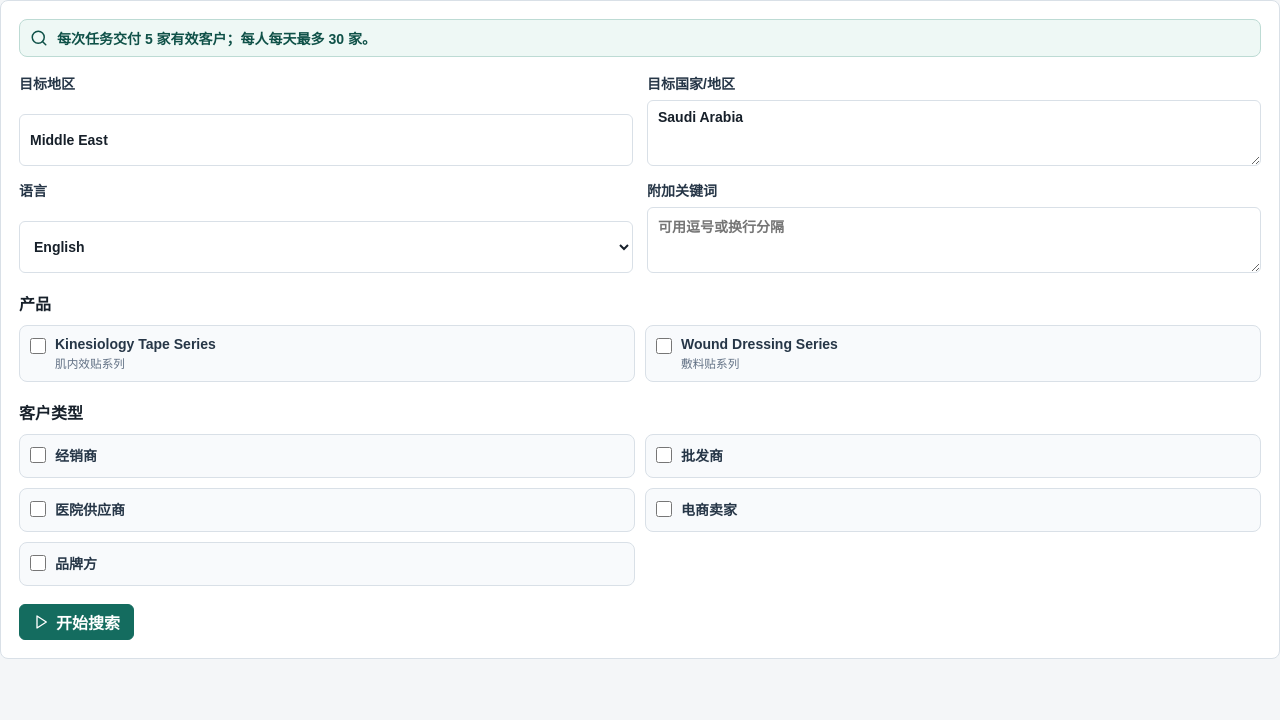
it: TaskForm › shows a network error without navigating
Step 1. Click the checkbox labelled "Kinesiology Tape Series" → (38, 346), box x1=30 y1=338 x2=46 y2=354
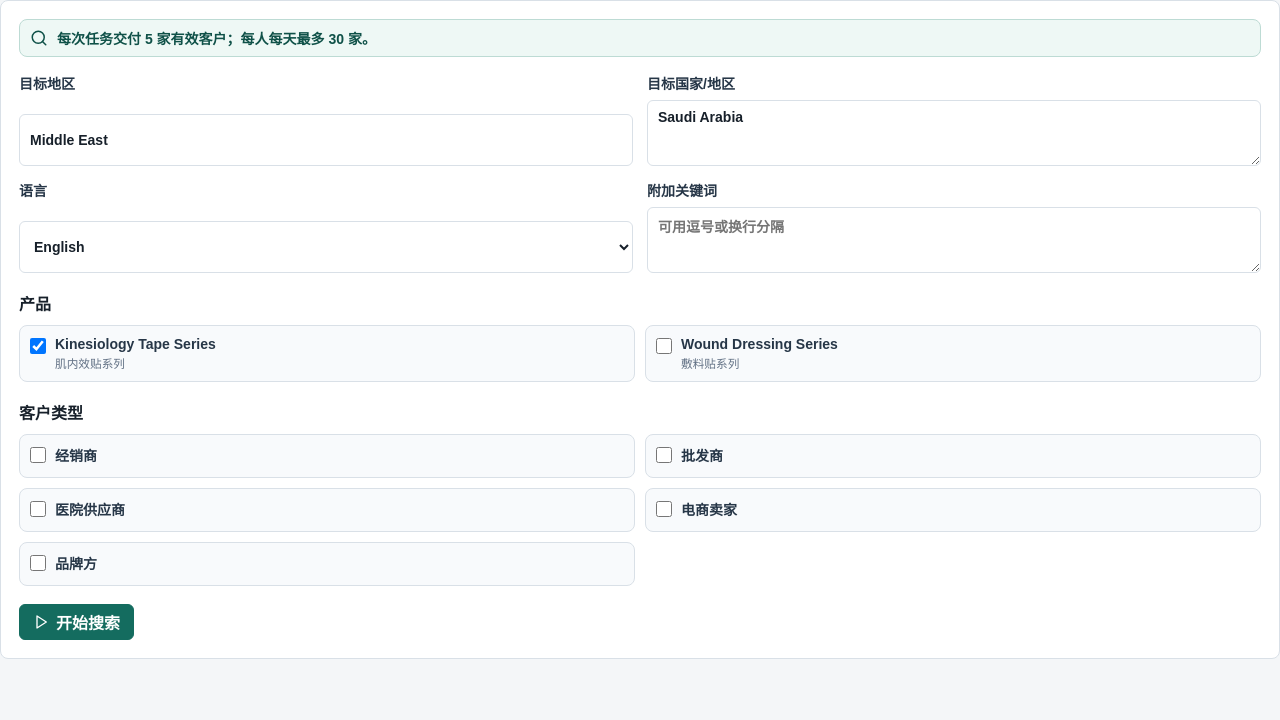
Step 2. Click the checkbox labelled "经销商" → (38, 455), box x1=30 y1=447 x2=46 y2=463
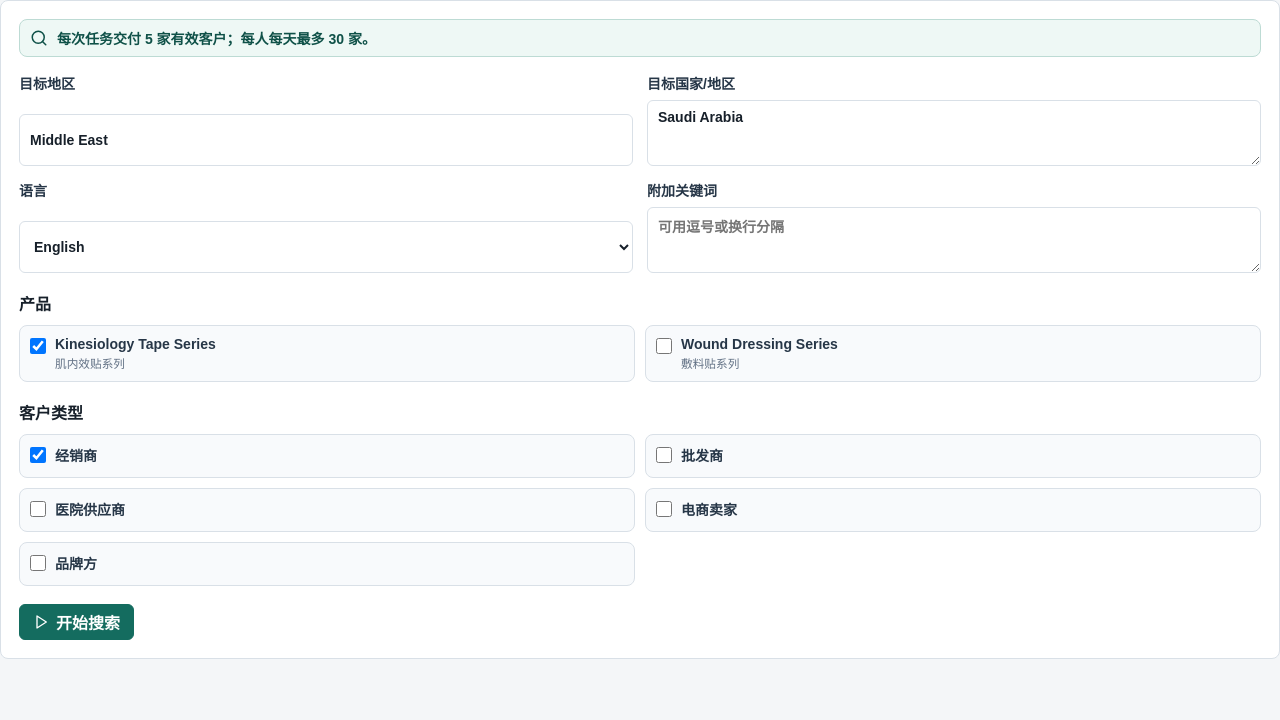
Step 3. Click the button "开始搜索" → (76, 622), box x1=19 y1=604 x2=134 y2=640
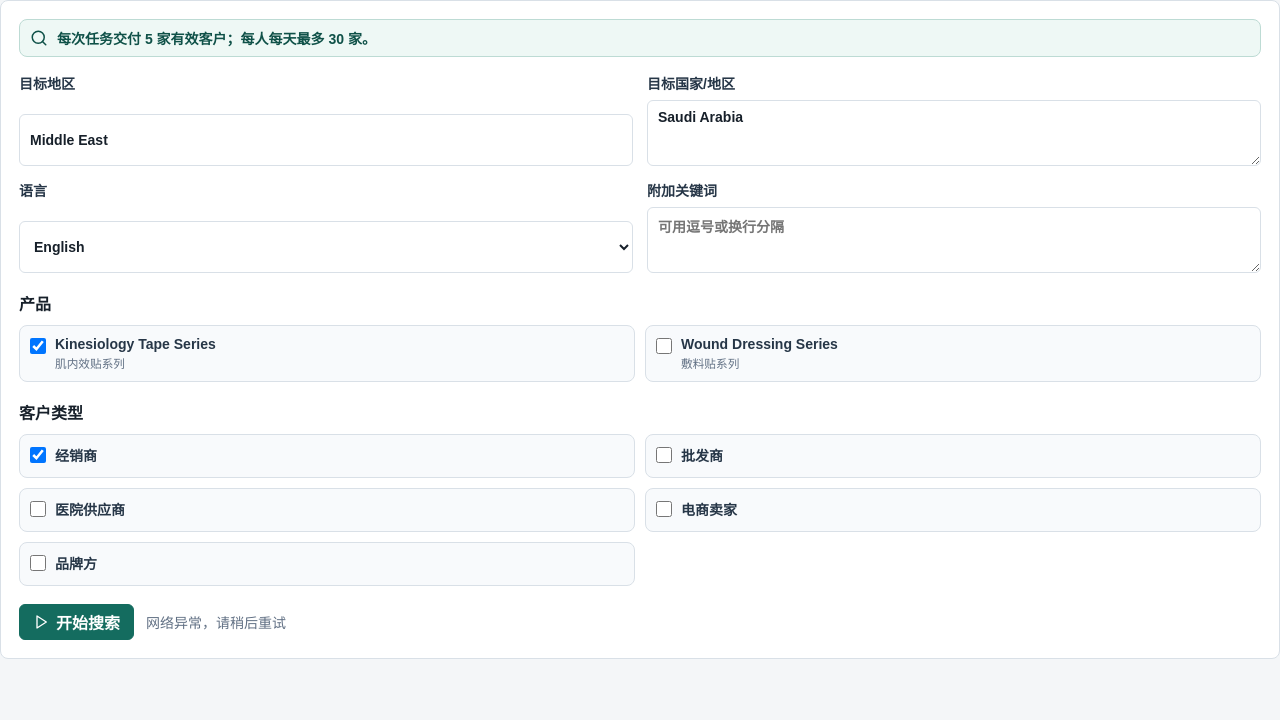
Expected: the text "网络异常，请稍后重试" is shown, x1=146 y1=612 x2=286 y2=632
